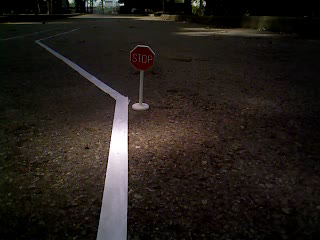Stop: (128, 44, 157, 72)
